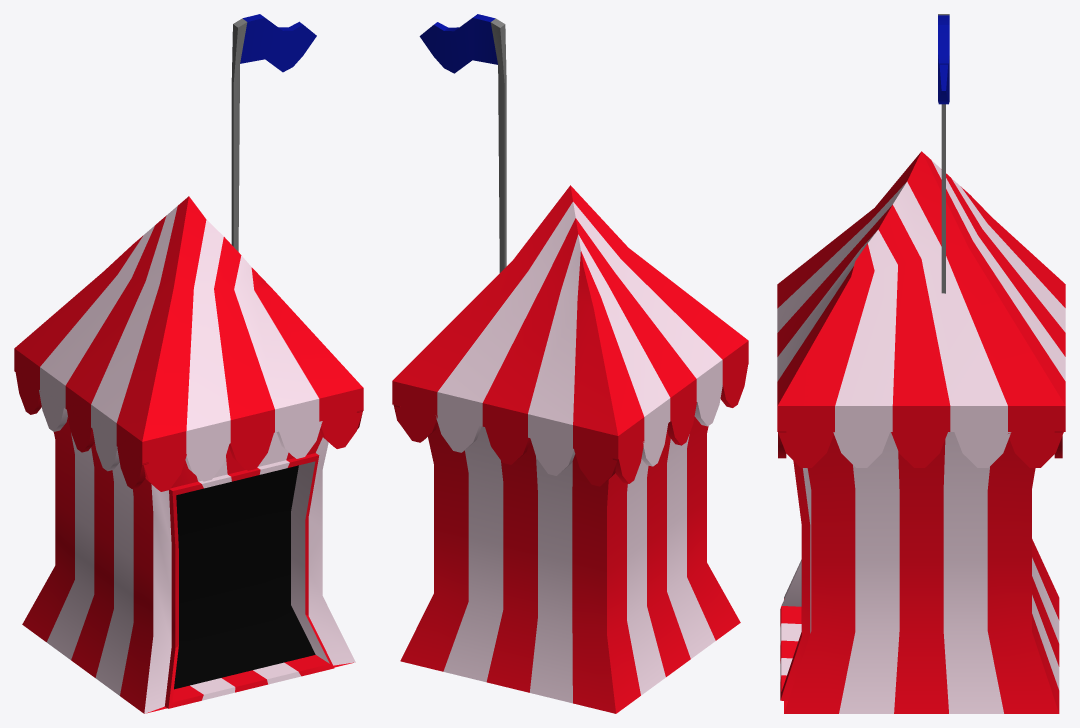
File: BarracaVermelha.fbx
3 renders of one model, left to right at view 1: azimuth 30°, elevation 25°; view 2: azimuth 150°, elevation 25°; view 3: azimuth 270°, elevation 25°, orthographic. The views are drawn at different scales.
Parts seen in each view (by area): view 1: BarracaVermelha; view 2: BarracaVermelha; view 3: BarracaVermelha.
Part boxes in pixels (x1,y1,x2,y2): BarracaVermelha: (14, 14, 363, 713); BarracaVermelha: (392, 14, 748, 713); BarracaVermelha: (777, 14, 1065, 713).
Size of the model in its own units: 265 by 615 by 237.
Materials: 1 (1 with a texture image).
